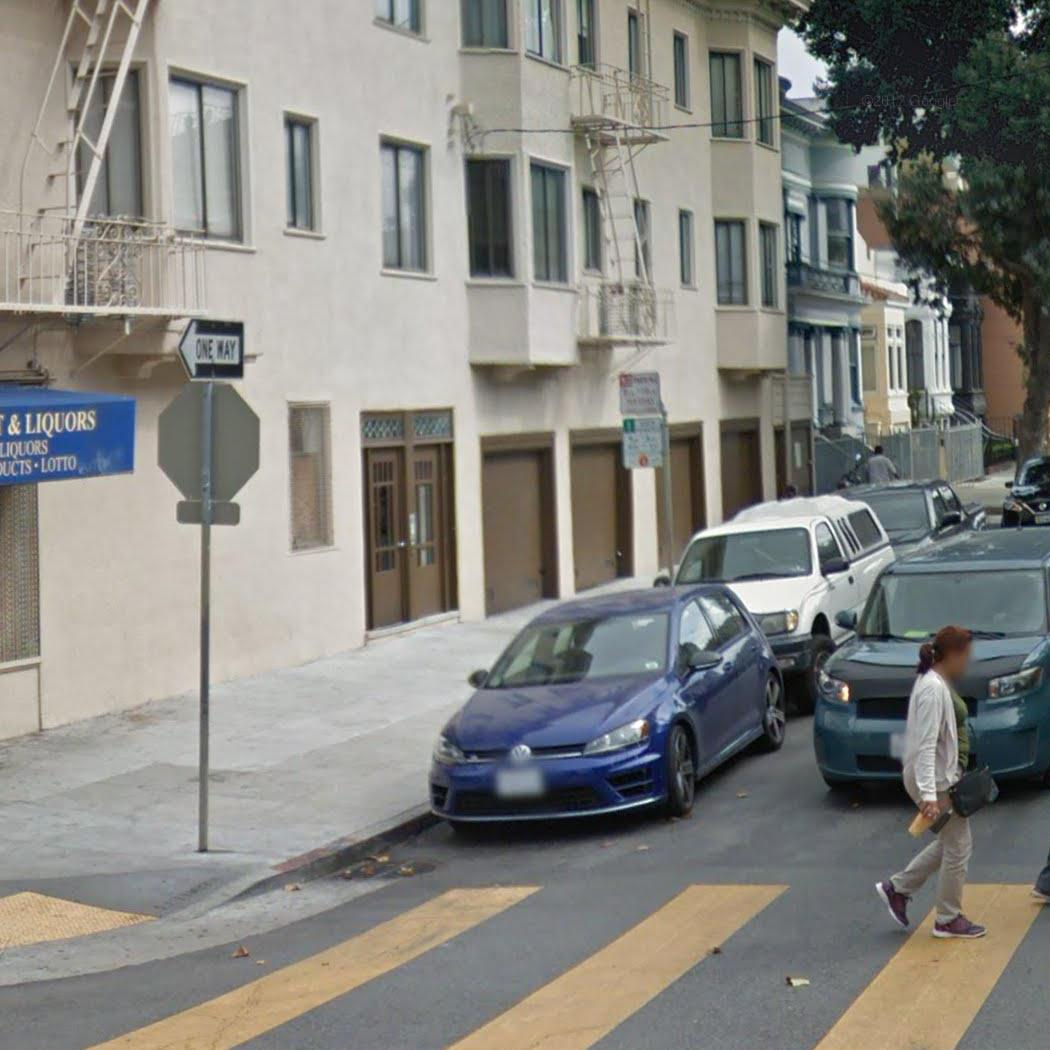1 Hour Parking: (620, 416, 665, 472)
No Parking: (616, 370, 663, 417)
